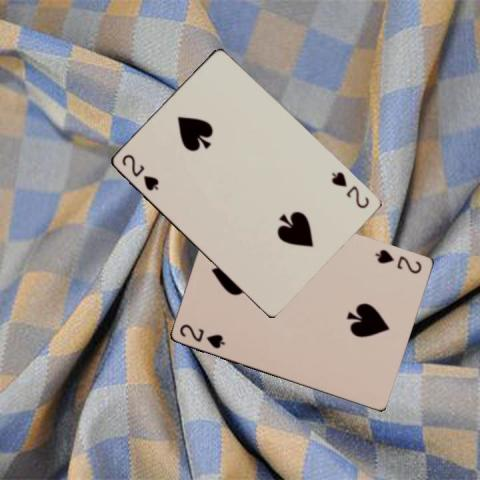2s: (118, 150, 160, 192), (327, 169, 370, 210), (176, 321, 227, 350), (372, 247, 423, 276)
